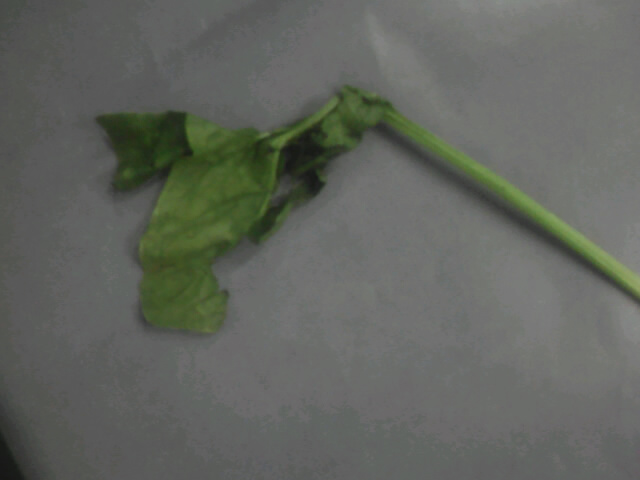yellow: (87, 65, 459, 355)
